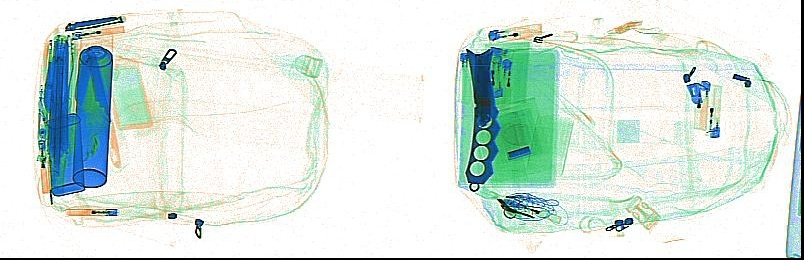knife: (464, 47, 500, 191), (88, 50, 122, 168), (473, 48, 494, 127), (73, 55, 95, 106), (64, 14, 125, 31), (41, 60, 59, 113)
lighter: (500, 196, 561, 223), (487, 22, 542, 44), (456, 51, 475, 104), (692, 78, 711, 131), (705, 83, 722, 138), (487, 45, 504, 98), (496, 56, 513, 109), (69, 24, 125, 40), (37, 138, 52, 194), (65, 207, 118, 216)
pressure: (71, 28, 114, 189)
zippooil: (43, 111, 84, 196)
